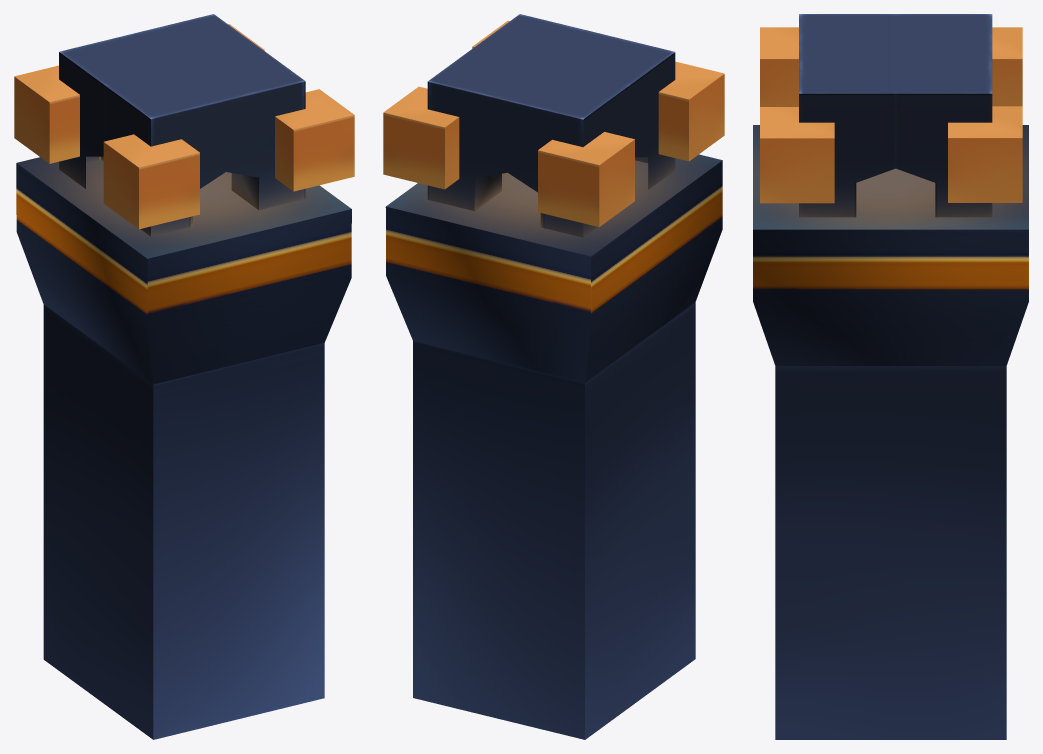
File: ZhuZi_B.fbx
The picture shows the model from 3 angles, left to right: view 1: azimuth 30°, elevation 25°; view 2: azimuth 150°, elevation 25°; view 3: azimuth 270°, elevation 25°; orthographic projection. The views are drawn at different scales.
Visible parts, largest first — view 1: ZhuZi_B; view 2: ZhuZi_B; view 3: ZhuZi_B.
Boxes of the visible parts, bbox=[...] form: ZhuZi_B: bbox=[14, 14, 354, 739]; ZhuZi_B: bbox=[383, 14, 724, 739]; ZhuZi_B: bbox=[753, 14, 1028, 739].
Size of the model in its own units: 0.2974 by 0.804 by 0.3129.
1 material, 1 textured.
